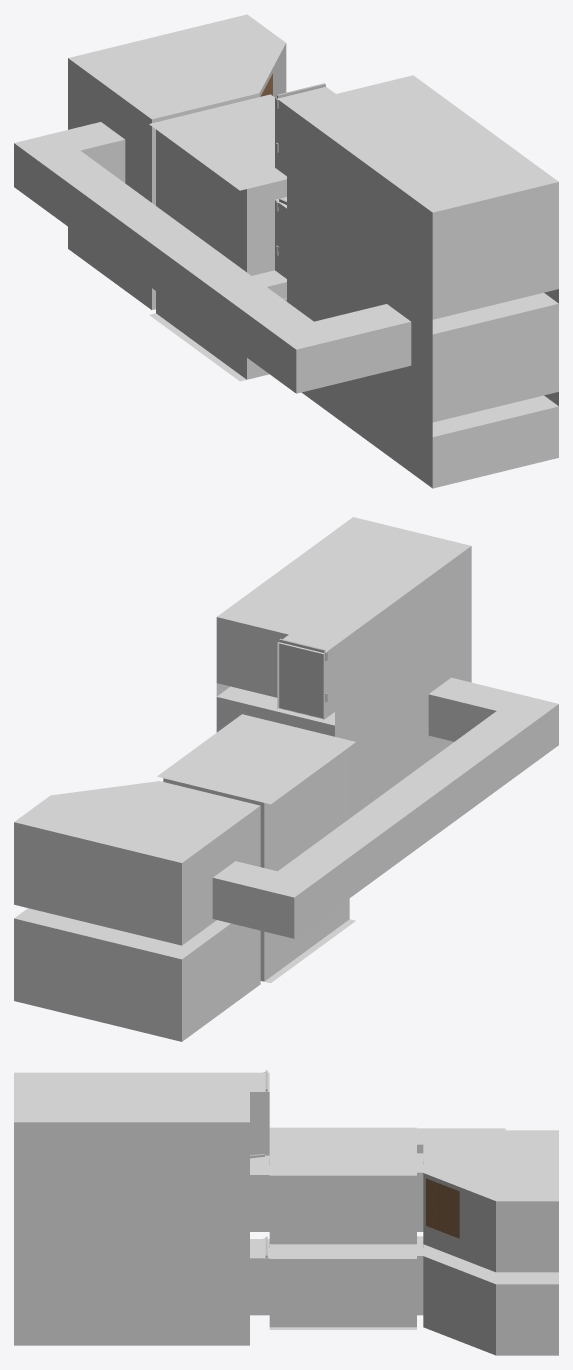
Rendered from scenelittle.fbx.
The picture shows the model from 3 angles, top to bottom: view 1: azimuth 30°, elevation 25°; view 2: azimuth 150°, elevation 25°; view 3: azimuth 270°, elevation 25°; orthographic projection. The views are drawn at different scales.
Visible parts, largest first — view 1: Paredes.002, Plane, Techo.000, Paredes.003, Paredes.001, Suelo.001; view 2: Paredes.002, Plane, Paredes.003, Paredes.001, Techo.000, Puertas.005, Techo.001; view 3: Paredes.002, Paredes.001, Paredes.003, Techo.000, Techo.001, Muebles.006, Plane, Suelo.000, Suelo.001.
Boxes of the visible parts, x1,y1,x2,y2 form: Paredes.002: (275, 75, 558, 488); Plane: (14, 122, 411, 393); Techo.000: (68, 14, 286, 190); Paredes.003: (68, 43, 286, 275); Paredes.001: (68, 227, 286, 379); Suelo.001: (149, 313, 246, 381); Paredes.002: (216, 517, 471, 818); Plane: (212, 677, 558, 938); Paredes.003: (14, 747, 349, 945); Paredes.001: (14, 898, 349, 1041); Techo.000: (14, 714, 355, 862); Puertas.005: (279, 638, 327, 718); Techo.001: (14, 908, 230, 959); Paredes.002: (14, 1072, 269, 1345); Paredes.001: (263, 1236, 558, 1355); Paredes.003: (263, 1153, 558, 1272); Techo.000: (269, 1127, 558, 1201); Techo.001: (269, 1244, 558, 1284); Muebles.006: (426, 1178, 459, 1238); Plane: (250, 1128, 505, 1155); Suelo.000: (269, 1244, 416, 1246); Suelo.001: (269, 1327, 416, 1329).
Size of the model in its own units: 949 by 950 by 2080.
Materials: 9 (1 with a texture image).
